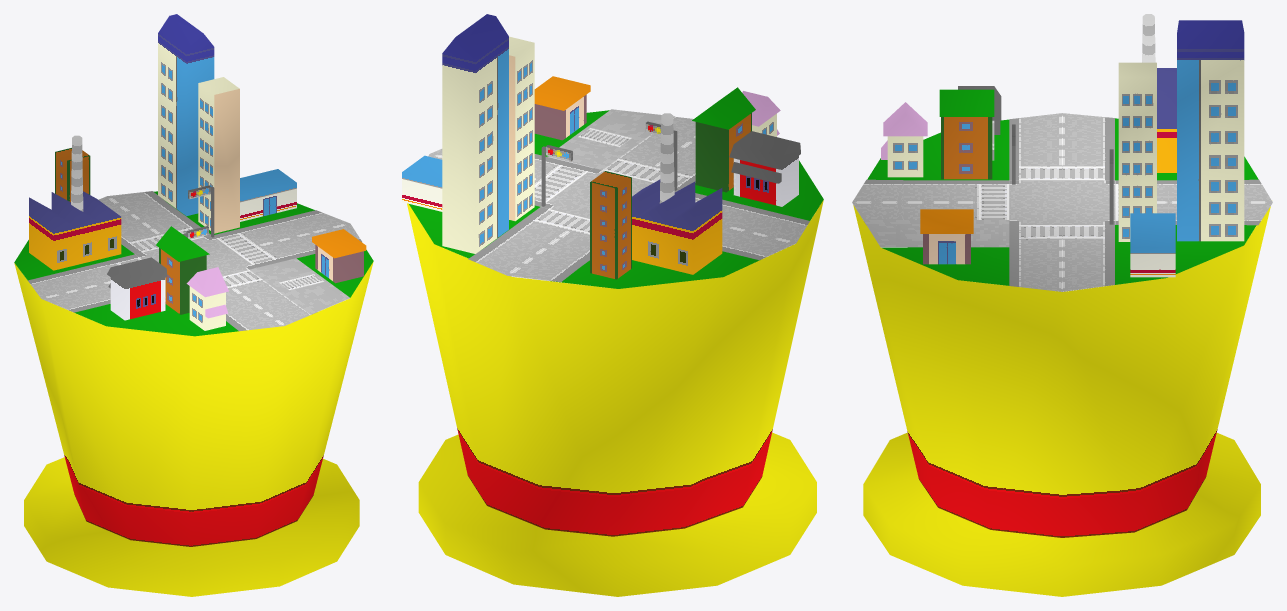
The model's file is ps2_save-icons_metropolismania2.glb.
3 renders of one model, left to right at view 1: azimuth 30°, elevation 25°; view 2: azimuth 150°, elevation 25°; view 3: azimuth 270°, elevation 25°, orthographic. The views are drawn at different scales.
Parts seen in each view (by area): view 1: STATIC.ICO; view 2: STATIC.ICO; view 3: STATIC.ICO.
Boxes of the visible parts, x1,y1,x2,y2 form: STATIC.ICO: [14, 14, 373, 596]; STATIC.ICO: [402, 14, 823, 596]; STATIC.ICO: [852, 14, 1272, 596].
Size of the model in its own units: 3.29 by 4.5 by 3.28.
1 material, 1 textured.
